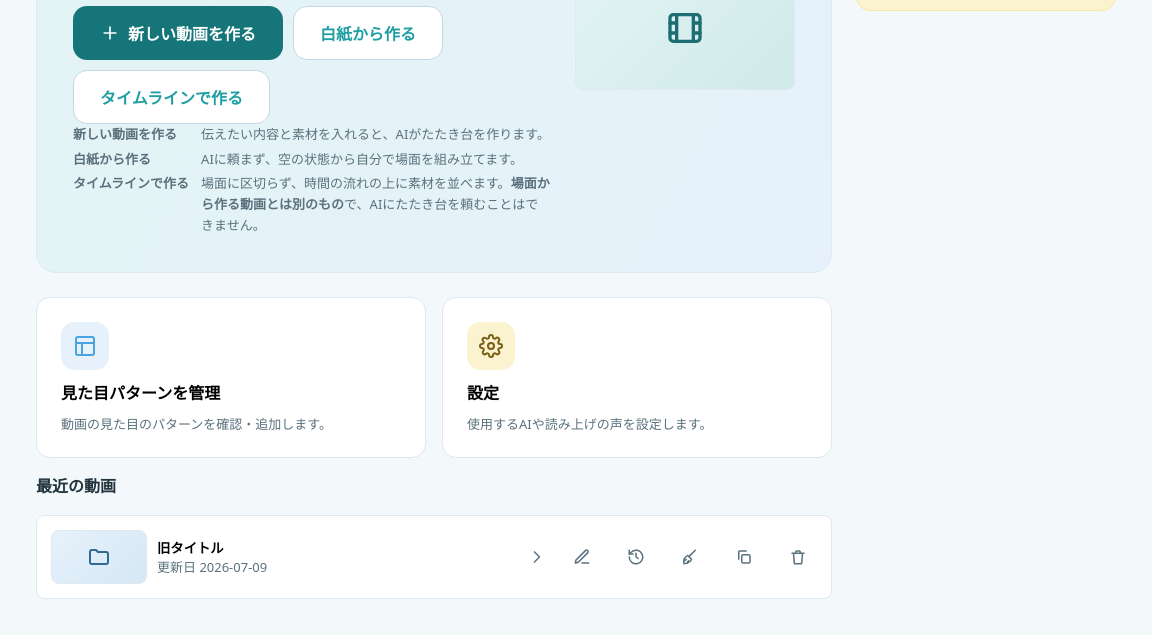
Test case: HomeScreen 一覧取得の失敗表示と再試行（#547 P2-2） › 改名成功＋再取得失敗：行は新しい名前のまま（旧名に戻らず、一覧の失敗表示にも化けない）
(page scrolled)
Click the button named "「旧タイトル」の名前を変更" at (582, 557), box 563,538 -> 601,576
(page scrolled)
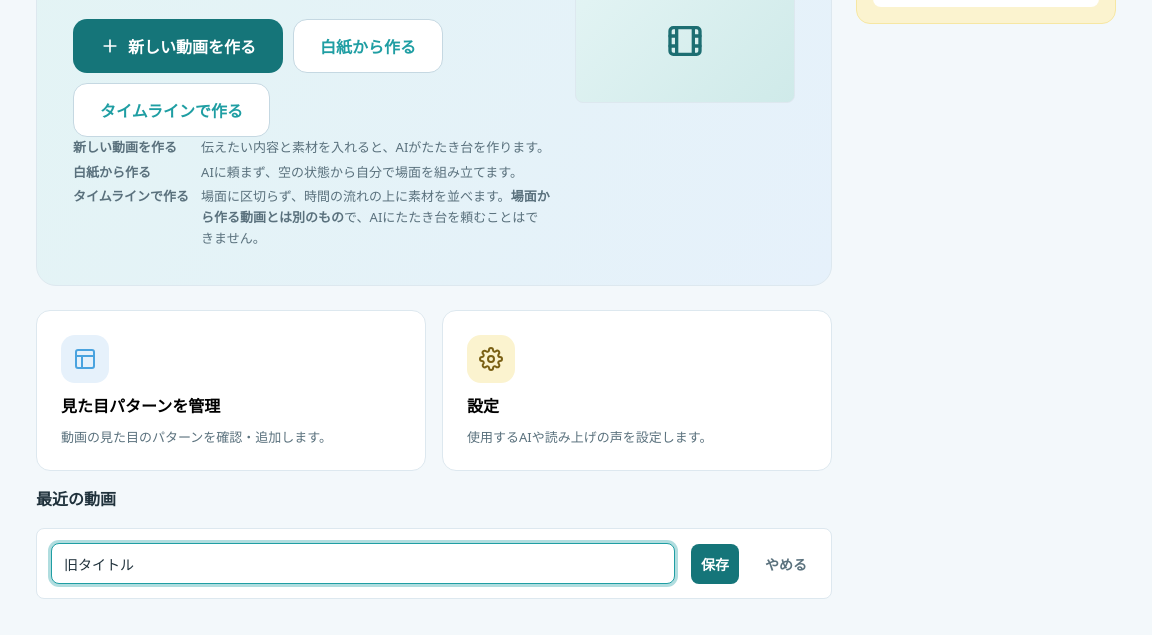
Replace the text in the field named "動画の名前" with "新タイトル" at (363, 564), box 51,543 -> 675,584
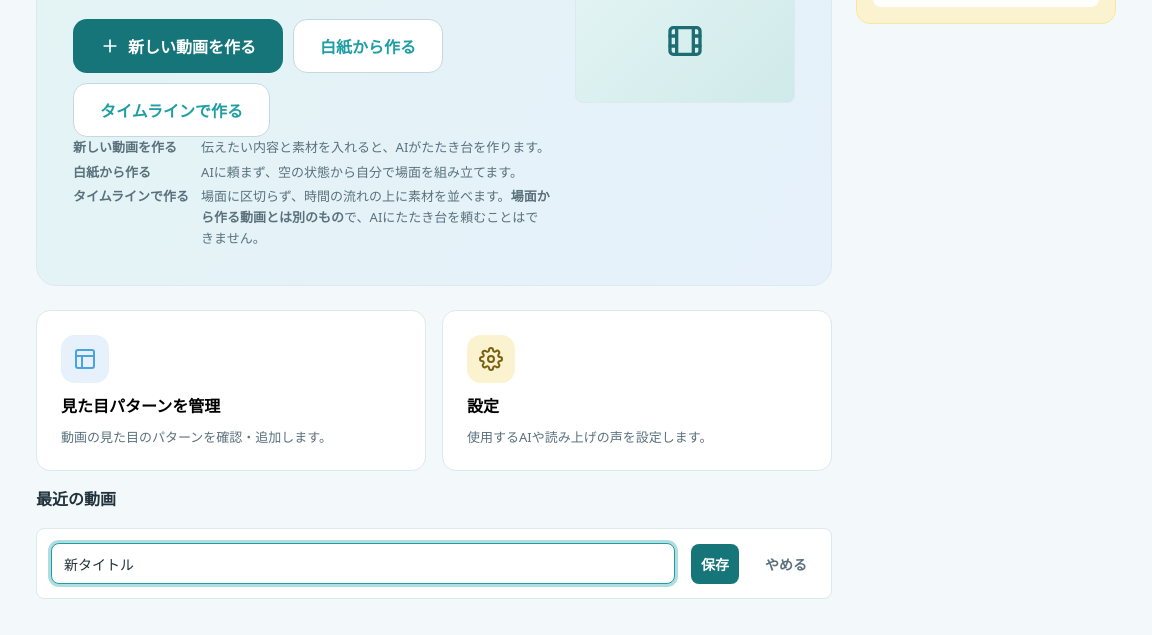
Click the button "保存" at (715, 564), box 691,544 -> 739,584
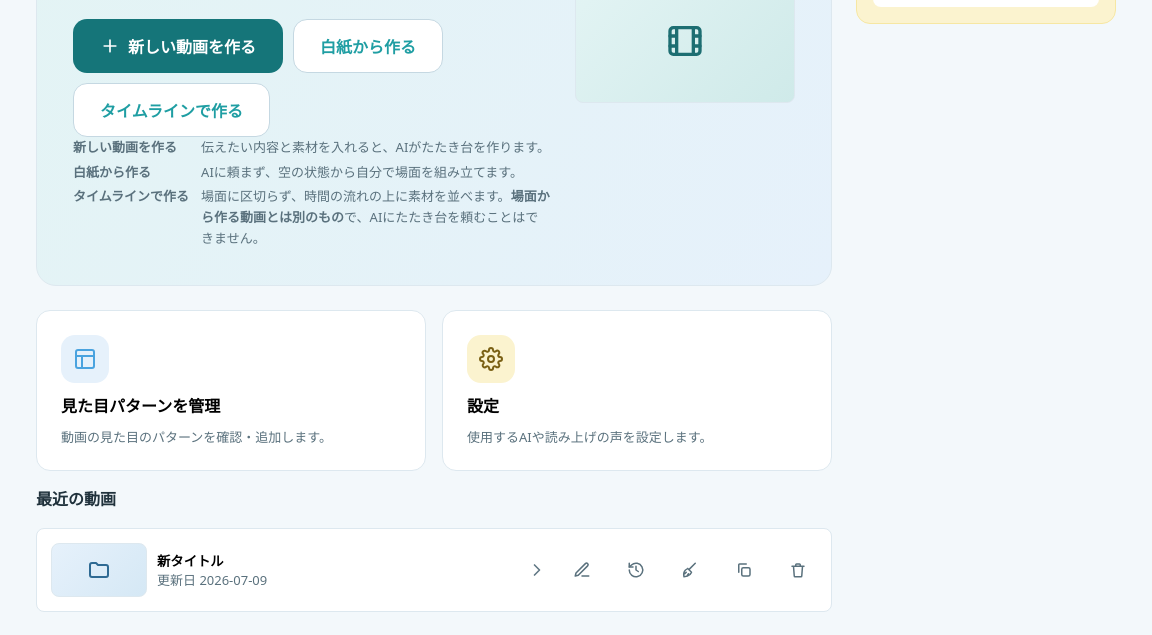
expect the button "旧タイトル" is not shown: met
expect the text "新タイトル" is shown: met, box 157,551 -> 224,570
